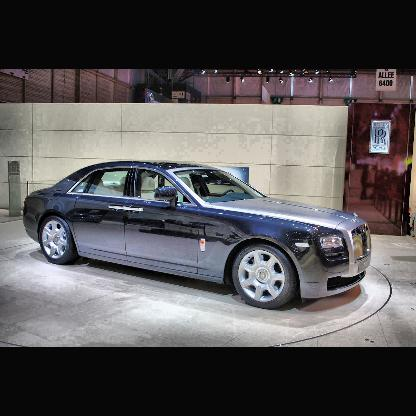Rolls-Royce Ghost Sedan 2012: (24, 162, 372, 309)
